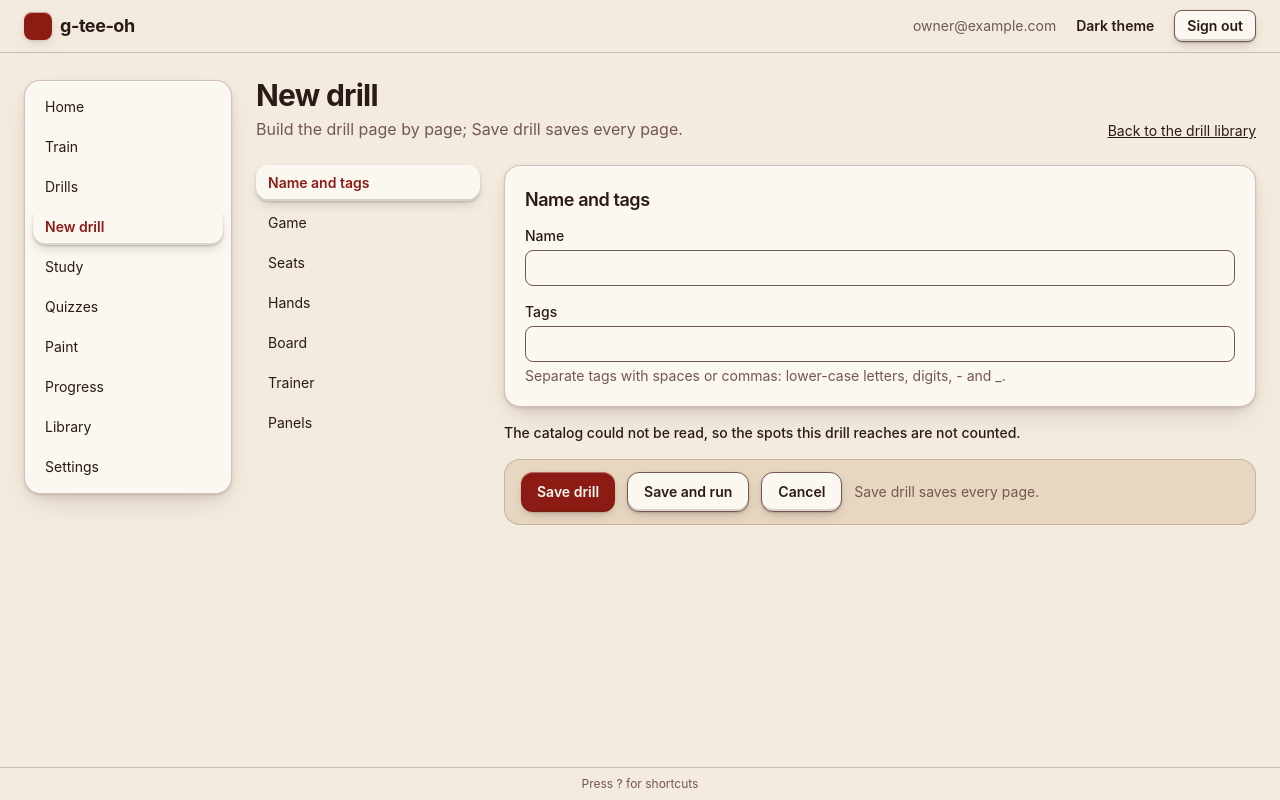
Test: R3.14 the builder's pages (O-405) › R3.14 Save with errors marks each page that holds one and links it from the alert
Later steps or results of the test are not shown.
Expected: the heading "New drill" is shown, [256,77,378,113]
Click the button "Save drill".
click(568, 492)  # box [521,472,615,512]
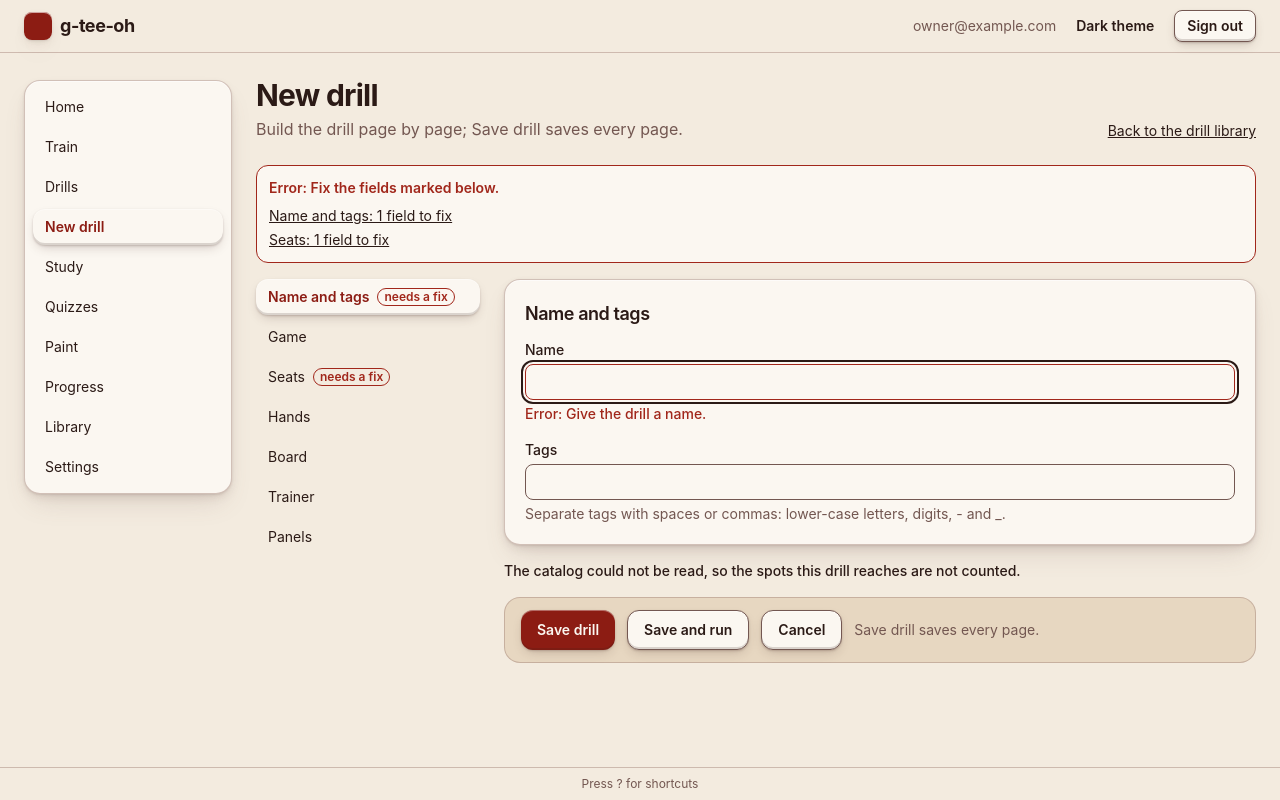
Expected: the link "Game" is shown, [268,328,307,345]
Expected: the link "Name and tags: 1 field to fix" is shown, [269,207,452,224]
Expected: the link with aria-label "Seats, needs a fix" shows "needs a fix", [268,368,390,386]
